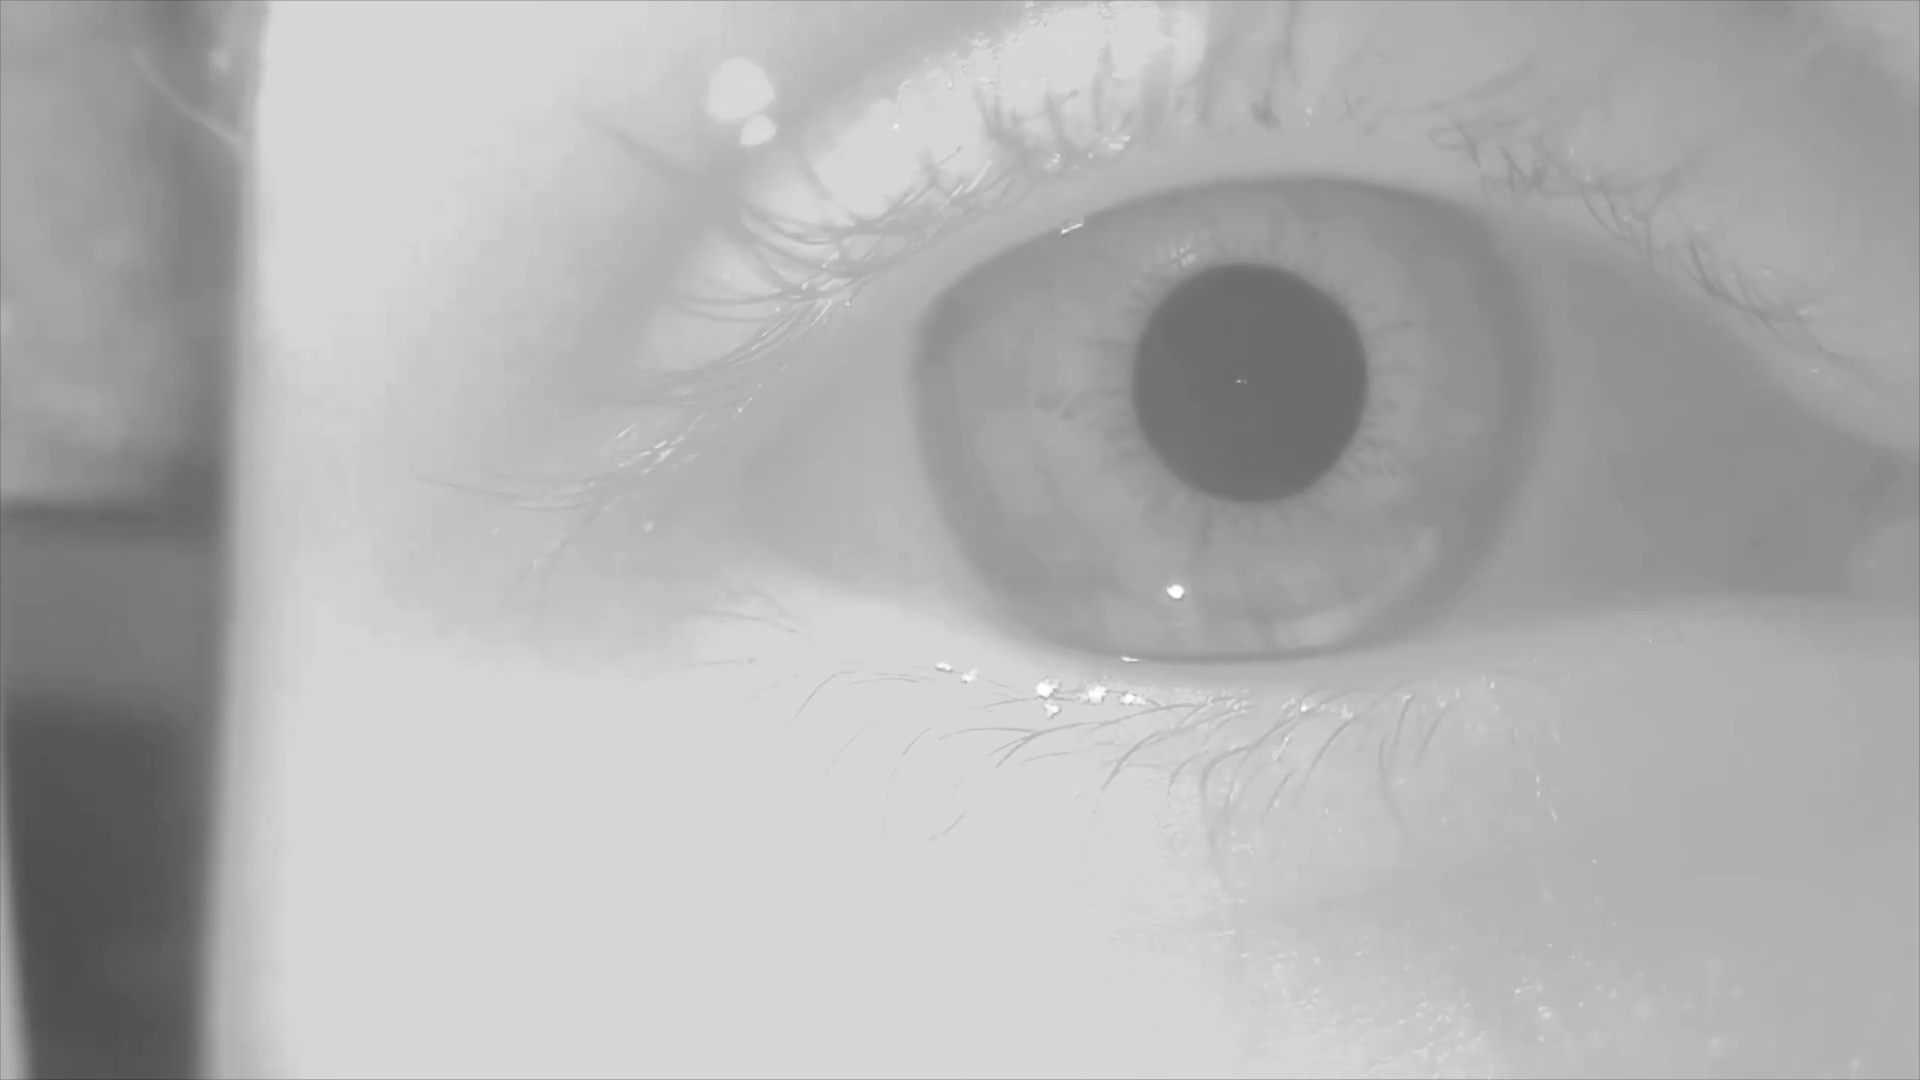pupil: (1133, 271, 1367, 506)
